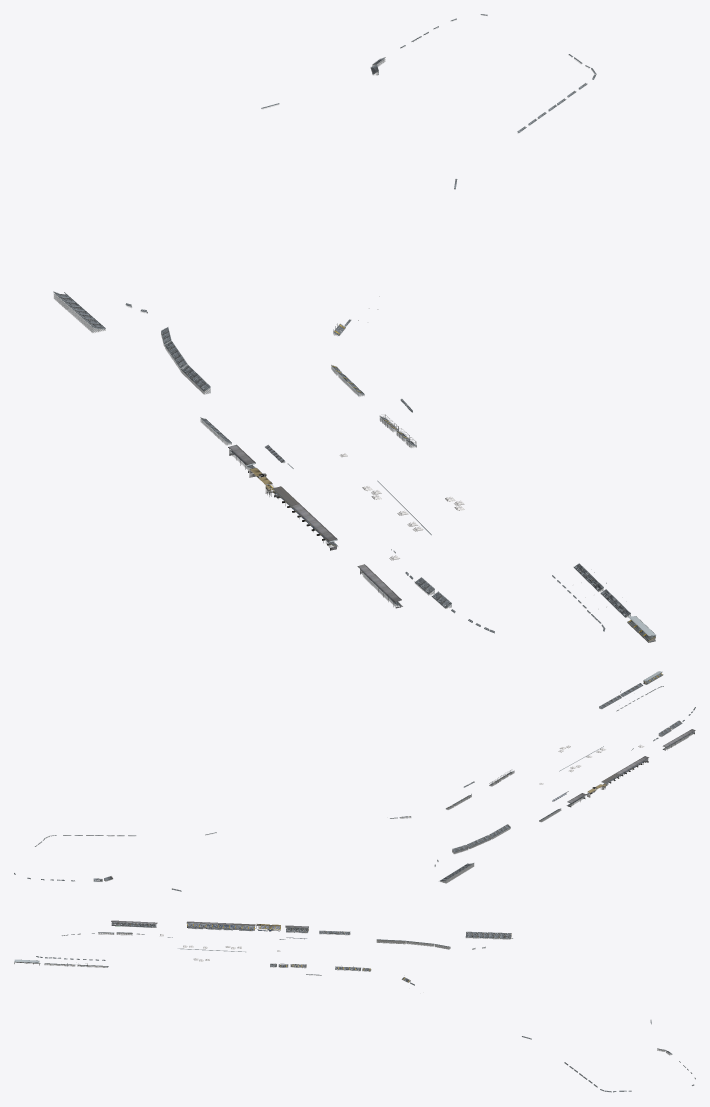
The model's file is grandstands.glb.
The picture shows the model from 3 angles, top to bottom: view 1: azimuth 30°, elevation 25°; view 2: azimuth 150°, elevation 25°; view 3: azimuth 270°, elevation 25°; orthographic projection. The views are drawn at different scales.
Visible parts, largest first — view 1: monza_2022.051, monza_2022.091; view 2: monza_2022.051, monza_2022.091; view 3: monza_2022.051, monza_2022.091.
Part boxes in pixels (<box>): monza_2022.051: <box>54,14,656,642</box>; monza_2022.091: <box>53,14,655,641</box>; monza_2022.051: <box>14,671,695,891</box>; monza_2022.091: <box>14,673,695,891</box>; monza_2022.051: <box>14,920,695,1091</box>; monza_2022.091: <box>14,922,695,1092</box>.
Bounding box in the file's own units: 1290 × 22 × 2182.
Materials: 2 (2 with a texture image).
